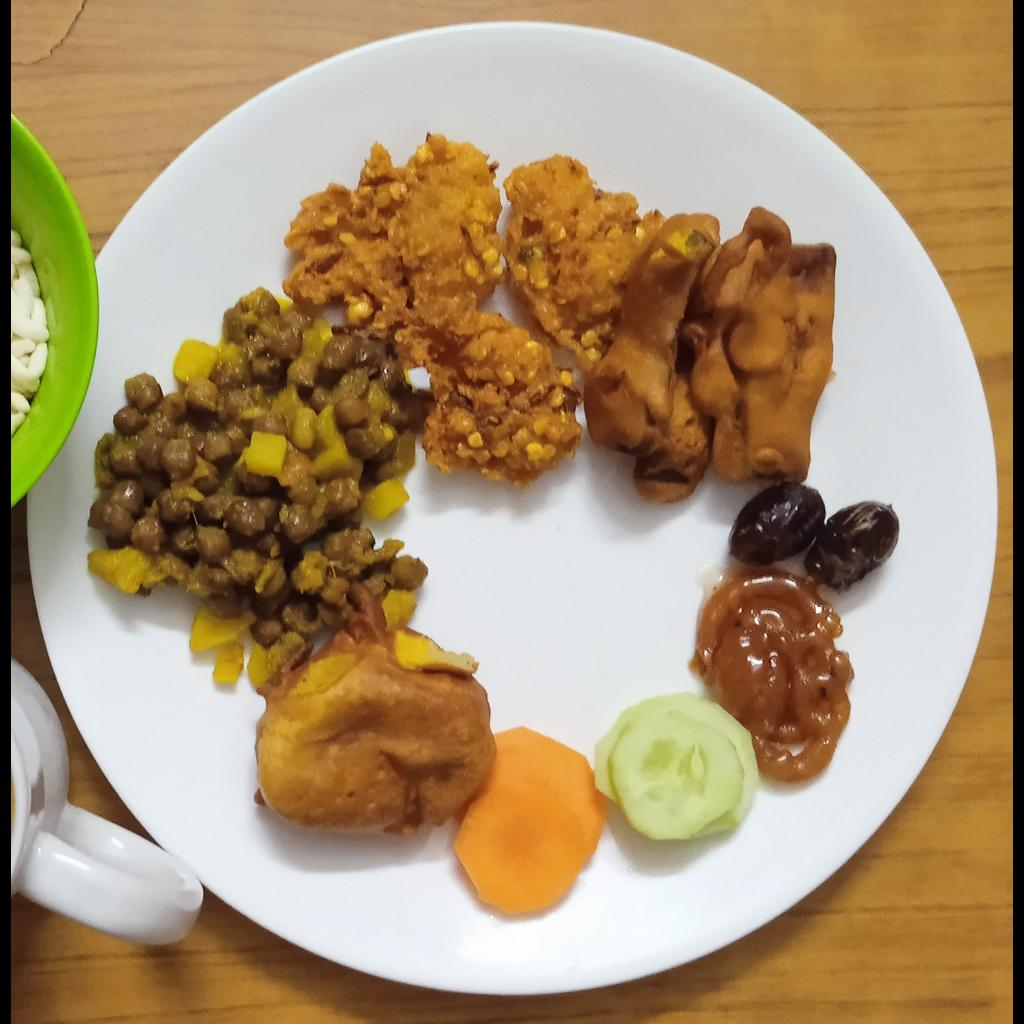carrot: (452, 726, 608, 914)
chola: (88, 281, 429, 694)
chop-alu: (585, 206, 838, 504), (253, 591, 497, 835)
cucumber: (595, 692, 761, 840)
dates: (726, 481, 899, 589)
jilapi: (690, 568, 855, 782)
piyaju: (282, 132, 662, 490)
